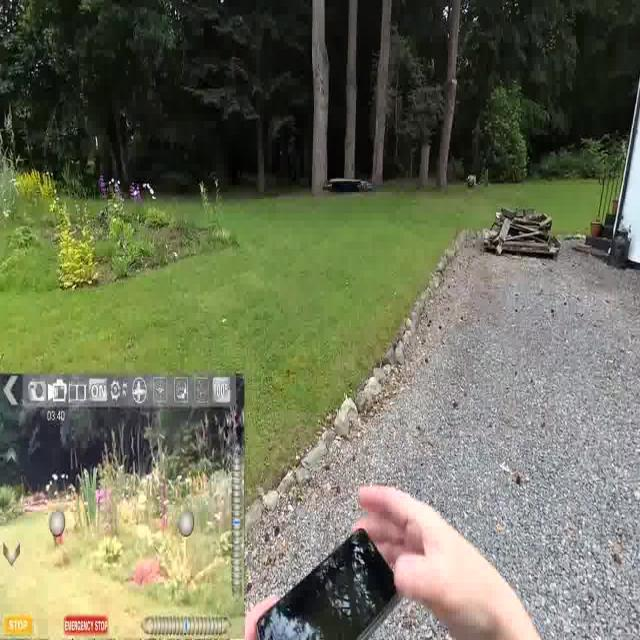drones: (320, 157, 375, 216)
